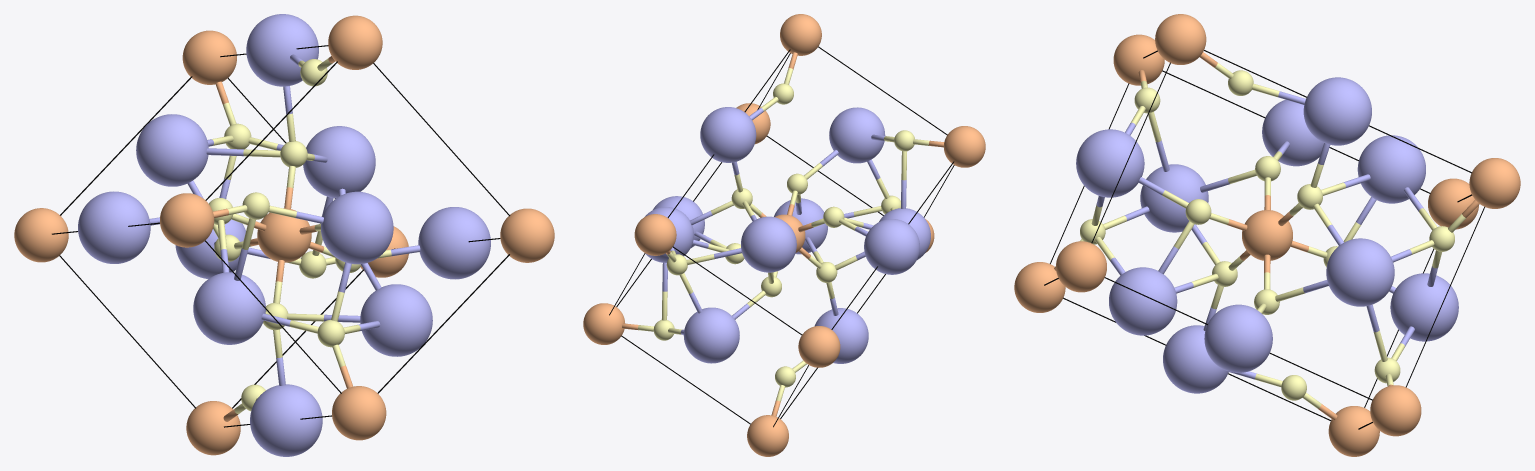
Rendered from Na3AlF6.glb.
The picture shows the model from 3 angles, left to right: view 1: azimuth 30°, elevation 25°; view 2: azimuth 150°, elevation 25°; view 3: azimuth 270°, elevation 25°; orthographic projection. The views are drawn at different scales.
Parts seen in each view (by area): view 1: CMAtom_22, CMAtom_20, CMAtom_0, CMAtom_25, CMAtom_3, CMAtom_4, CMAtom_5, CMAtom_2, CMAtom_28, CMAtom_24, CMAtom_30, CMAtom_21 (+12 smaller); view 2: CMAtom_3, CMAtom_28, CMAtom_1, CMAtom_22, CMAtom_20, CMAtom_0, CMAtom_23, CMAtom_29, CMAtom_24, CMAtom_6, CMAtom_26, CMAtom_30 (+5 smaller); view 3: CMAtom_2, CMAtom_25, CMAtom_28, CMAtom_20, CMAtom_5, CMAtom_3, CMAtom_1, CMAtom_0, CMAtom_4, CMAtom_22, CMAtom_26, CMAtom_27 (+14 smaller).
Part boxes in pixels (left/top/right/bottom): CMAtom_22: left=78, top=191, right=150, bottom=263; CMAtom_20: left=321, top=191, right=393, bottom=264; CMAtom_0: left=250, top=384, right=322, bottom=456; CMAtom_25: left=418, top=207, right=490, bottom=279; CMAtom_3: left=136, top=114, right=208, bottom=186; CMAtom_4: left=193, top=272, right=265, bottom=344; CMAtom_5: left=360, top=284, right=432, bottom=356; CMAtom_2: left=303, top=126, right=375, bottom=198; CMAtom_28: left=246, top=14, right=318, bottom=86; CMAtom_24: left=160, top=193, right=214, bottom=247; CMAtom_30: left=328, top=15, right=382, bottom=69; CMAtom_21: left=332, top=386, right=386, bottom=440; CMAtom_3: left=741, top=216, right=796, bottom=272; CMAtom_28: left=700, top=107, right=756, bottom=162; CMAtom_1: left=683, top=307, right=739, bottom=363; CMAtom_22: left=864, top=219, right=919, bottom=274; CMAtom_20: left=829, top=107, right=885, bottom=163; CMAtom_0: left=814, top=308, right=868, bottom=363; CMAtom_23: left=798, top=326, right=840, bottom=367; CMAtom_29: left=634, top=214, right=676, bottom=255; CMAtom_24: left=943, top=126, right=985, bottom=167; CMAtom_6: left=747, top=415, right=788, bottom=456; CMAtom_26: left=583, top=303, right=625, bottom=344; CMAtom_30: left=780, top=14, right=821, bottom=55; CMAtom_2: left=1326, top=238, right=1394, bottom=306; CMAtom_25: left=1204, top=304, right=1272, bottom=372; CMAtom_28: left=1303, top=77, right=1371, bottom=145; CMAtom_20: left=1076, top=129, right=1144, bottom=197; CMAtom_5: left=1109, top=267, right=1177, bottom=335; CMAtom_3: left=1357, top=135, right=1425, bottom=203; CMAtom_1: left=1390, top=273, right=1458, bottom=341; CMAtom_0: left=1163, top=325, right=1228, bottom=393; CMAtom_4: left=1140, top=164, right=1208, bottom=232; CMAtom_22: left=1262, top=99, right=1323, bottom=166; CMAtom_26: left=1370, top=385, right=1421, bottom=436; CMAtom_27: left=1056, top=241, right=1106, bottom=292.
Size of the model in its own units: 9.18 by 11.36 by 11.31.
